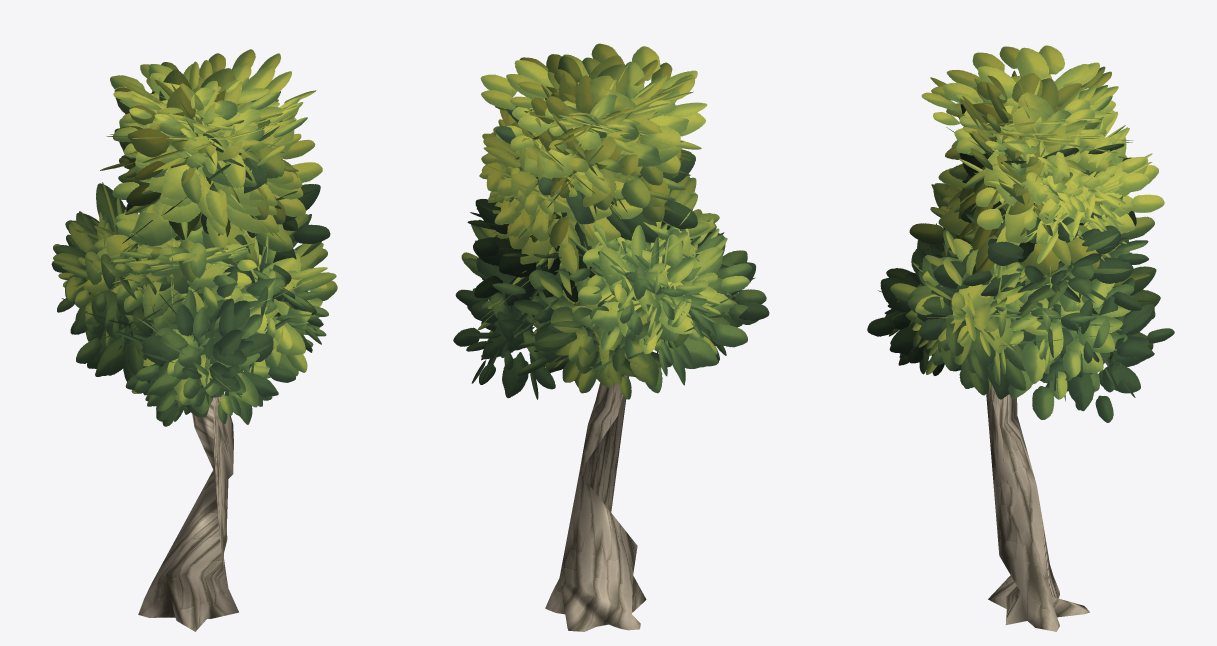
The model's file is tree_round_b_far.glb.
The picture shows the model from 3 angles, left to right: view 1: azimuth 30°, elevation 25°; view 2: azimuth 150°, elevation 25°; view 3: azimuth 270°, elevation 25°; orthographic projection.
Parts seen in each view (by area): view 1: Canopy, tree_round_b_far; view 2: Canopy, tree_round_b_far; view 3: Canopy, tree_round_b_far.
Boxes of the visible parts, <box> form: Canopy: <box>51,49,337,426</box>; tree_round_b_far: <box>138,393,238,631</box>; Canopy: <box>453,43,769,399</box>; tree_round_b_far: <box>545,375,646,631</box>; Canopy: <box>867,45,1174,422</box>; tree_round_b_far: <box>986,378,1089,631</box>.
Bounding box in the file's own units: 1.48 × 2.3 × 1.42.
Materials: 2 (2 with a texture image).
